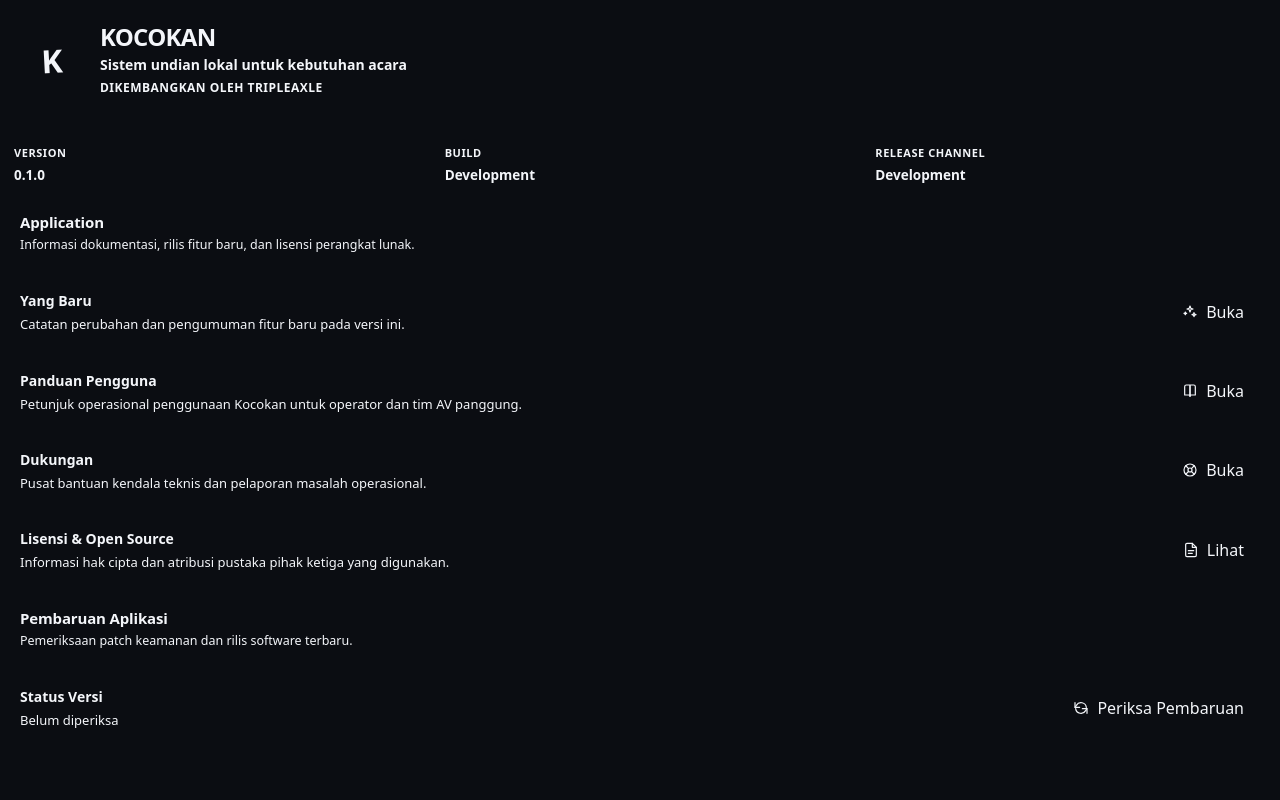
Test: AboutTab update checker › blocks preparation while an Audience subscriber is connected
The width and height of the screenshot is (1280, 800).
Click the button "Periksa Pembaruan" at (1159, 708), box x1=1057 y1=688 x2=1260 y2=728
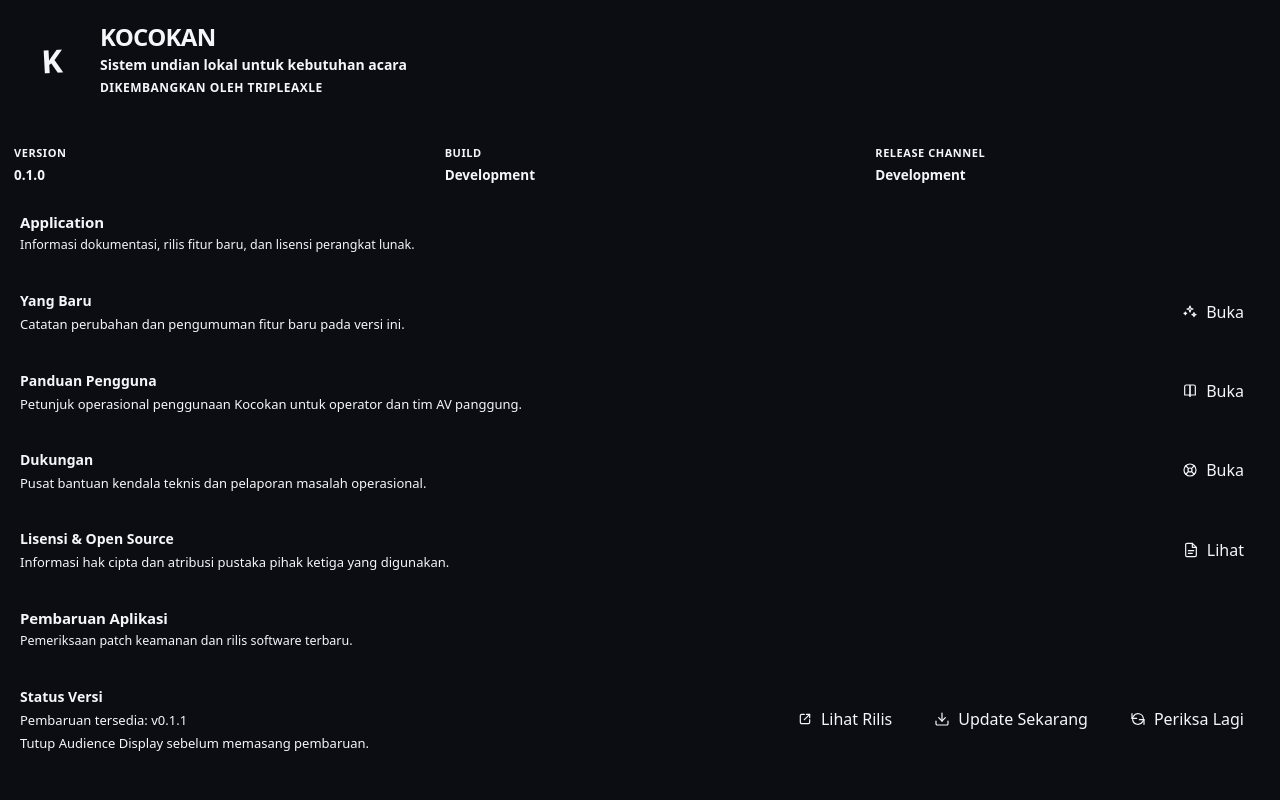
Expected: the text "Tutup Audience Display sebelum memasang pembaruan." is shown, x1=20 y1=734 x2=369 y2=752
Expected: the button "Update Sekarang" is disabled, x1=918 y1=699 x2=1104 y2=739
